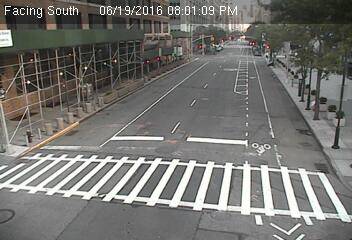neg: (112, 140, 151, 191), (22, 107, 53, 148), (291, 179, 321, 220), (292, 83, 321, 121), (164, 119, 190, 154), (66, 95, 91, 129), (213, 136, 237, 168), (199, 56, 223, 88), (247, 144, 271, 176), (60, 159, 84, 190), (227, 212, 246, 237), (256, 52, 274, 77), (82, 61, 99, 85), (150, 61, 167, 84), (229, 100, 245, 122)
